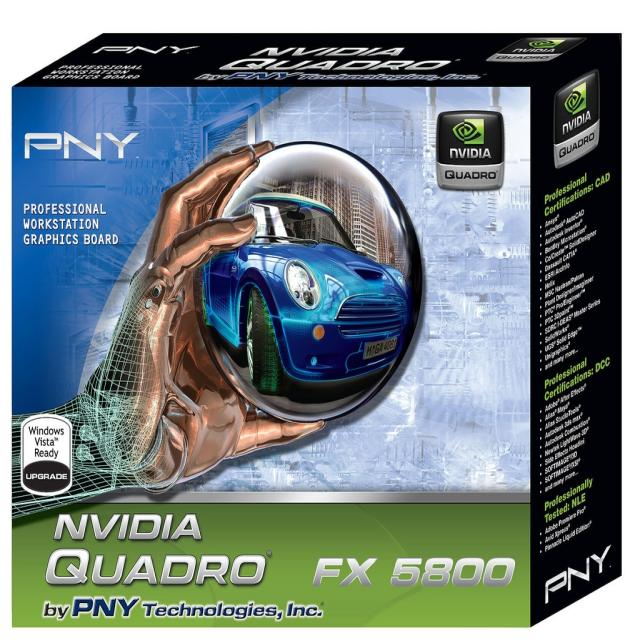nvidia: (452, 119, 485, 146), (563, 82, 588, 116), (529, 40, 565, 51)
